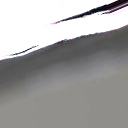crackTip: (47, 1, 128, 31)
